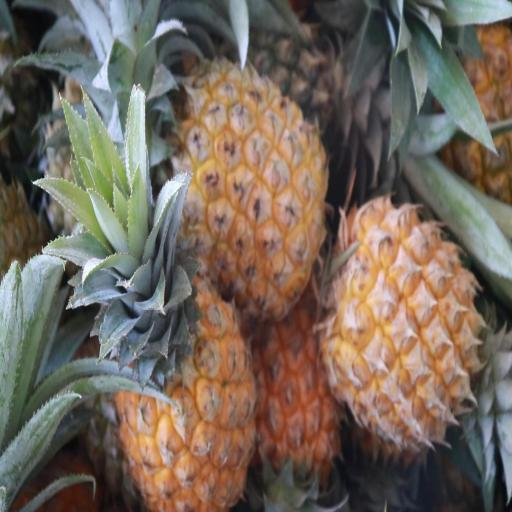Pineapple - v8 v1: (117, 187, 257, 512), (173, 62, 328, 319), (326, 198, 482, 453), (252, 311, 348, 511)
